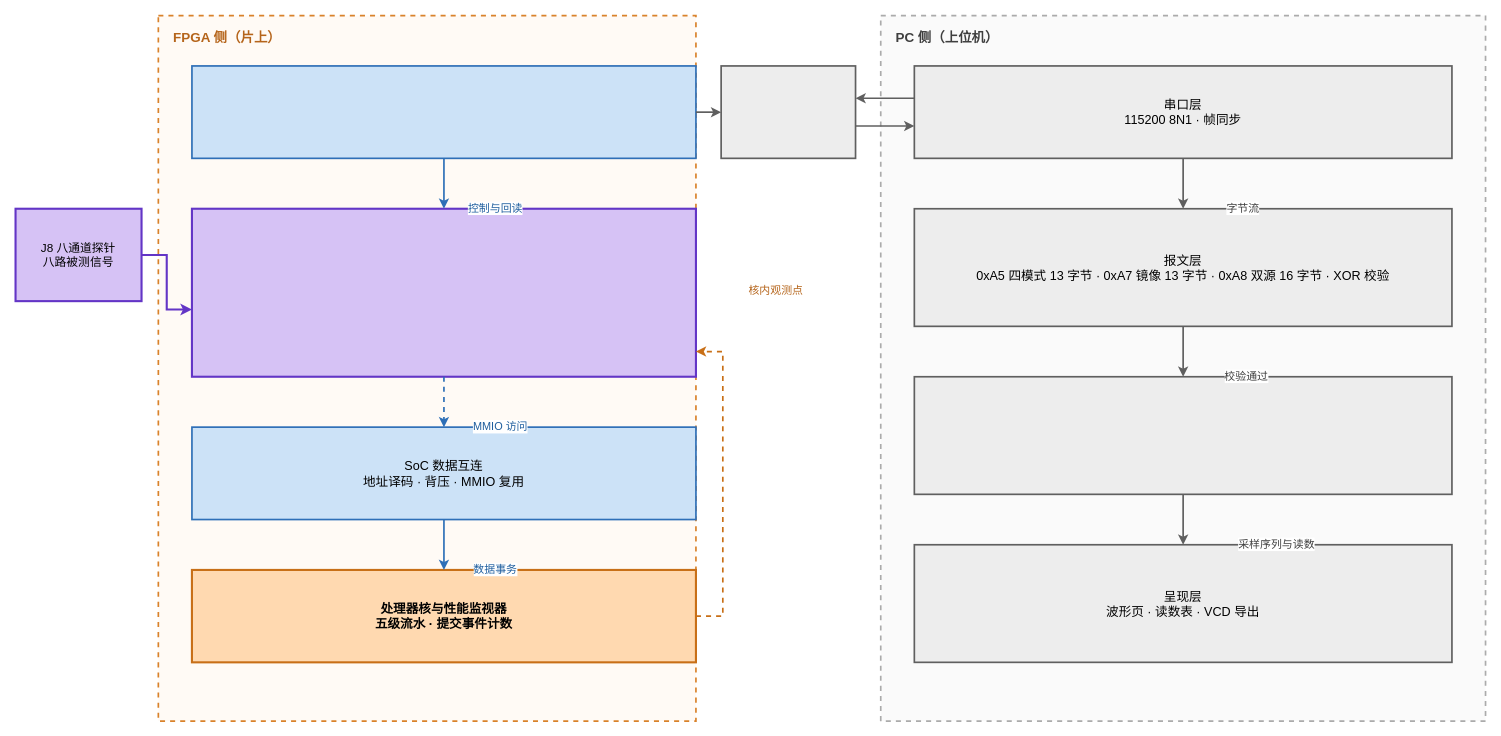
The diagram is 1501 pixels wide and 736 high, and some of its shapes have lost their labels. Here are the shapes that lost their labels. From the top down, the centre of each, then its label:
point 443,112: 板级顶层 时钟 PLL · 复位 · 电平极性 · 采集源选择
point 788,112: CP2102 USB 串口 115200 8N1
point 444,292: 逻辑分析仪外设 MMIO 寄存器 · 触发判定 · 采集引擎 · 2048 样本缓存
point 1182,435: 解析层 Raw 重建 · UART / SPI 解码 · 仪器读数
